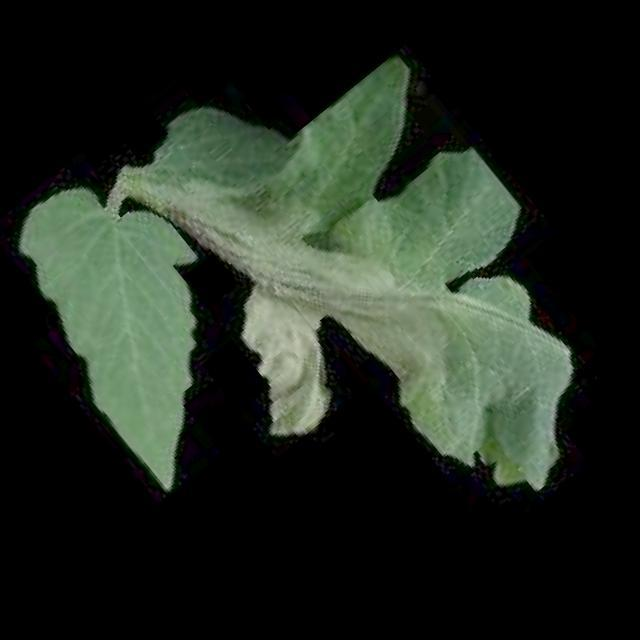Tomato healthy leaf: (0, 143, 305, 495)
Tomato late blight leaf: (86, 0, 640, 597)
